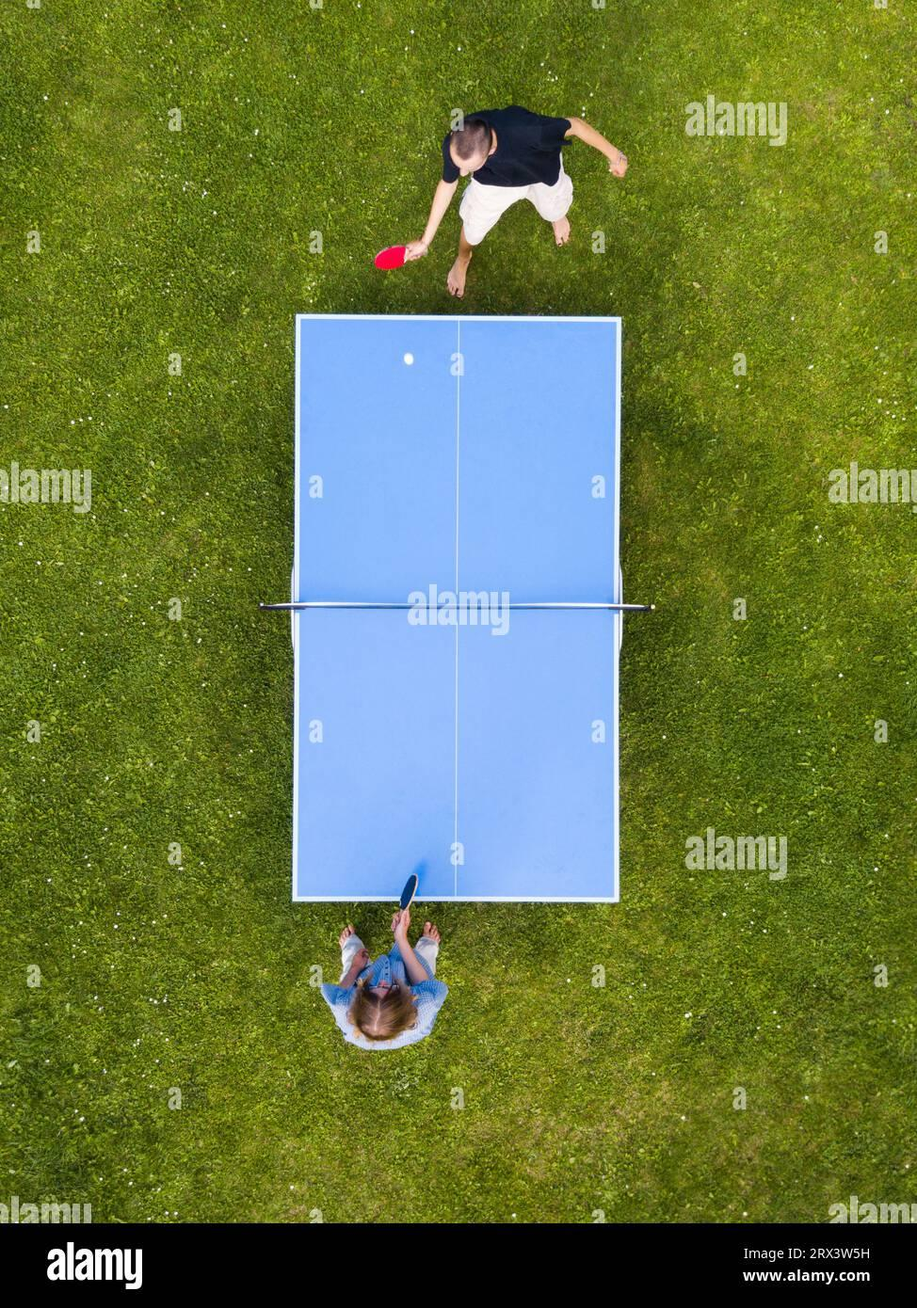ball_pingpong: (399, 346, 412, 367)
